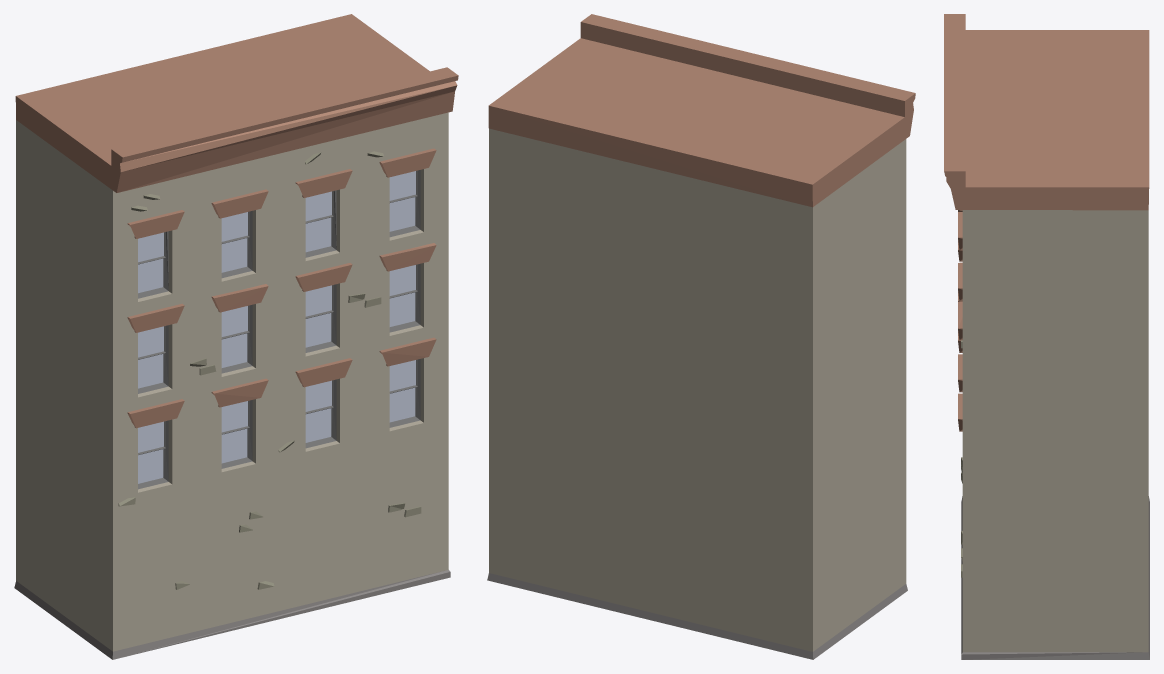
File: gb-blank.glb
3 renders of one model, left to right at view 1: azimuth 30°, elevation 25°; view 2: azimuth 150°, elevation 25°; view 3: azimuth 270°, elevation 25°, orthographic. The views are drawn at different scales.
Visible parts, largest first — view 1: GBBlank; view 2: GBBlank; view 3: GBBlank.
Part boxes in pixels (x1=…): GBBlank: x1=14, y1=14, x2=458, y2=659; GBBlank: x1=487, y1=14, x2=915, y2=659; GBBlank: x1=944, y1=14, x2=1149, y2=659.
Bounding box in the file's own units: 2.42 × 3.48 × 1.33.
Materials: 1 (1 with a texture image).
